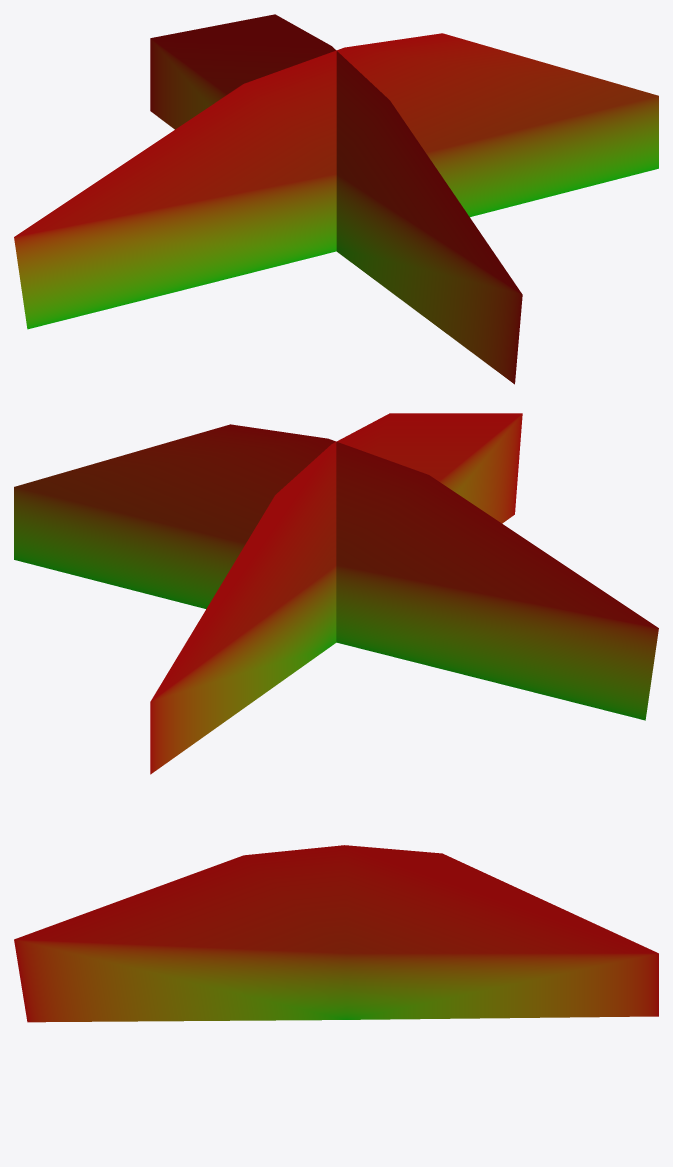
File: Kikuyu Grass_LOD6_Var9_wiljearqx.fbx
3 views of the same model, one above another, from view 1: azimuth 30°, elevation 25°; view 2: azimuth 150°, elevation 25°; view 3: azimuth 270°, elevation 25° (orthographic). The views are drawn at different scales.
Parts seen in each view (by area): view 1: _kca2_Var9_LOD6; view 2: _kca2_Var9_LOD6; view 3: _kca2_Var9_LOD6.
Boxes of the visible parts, x1=… form: _kca2_Var9_LOD6: x1=14, y1=14, x2=658, y2=384; _kca2_Var9_LOD6: x1=14, y1=413, x2=658, y2=774; _kca2_Var9_LOD6: x1=14, y1=845, x2=658, y2=1022.
Size of the model in its own units: 94.53 by 28.65 by 94.53.
